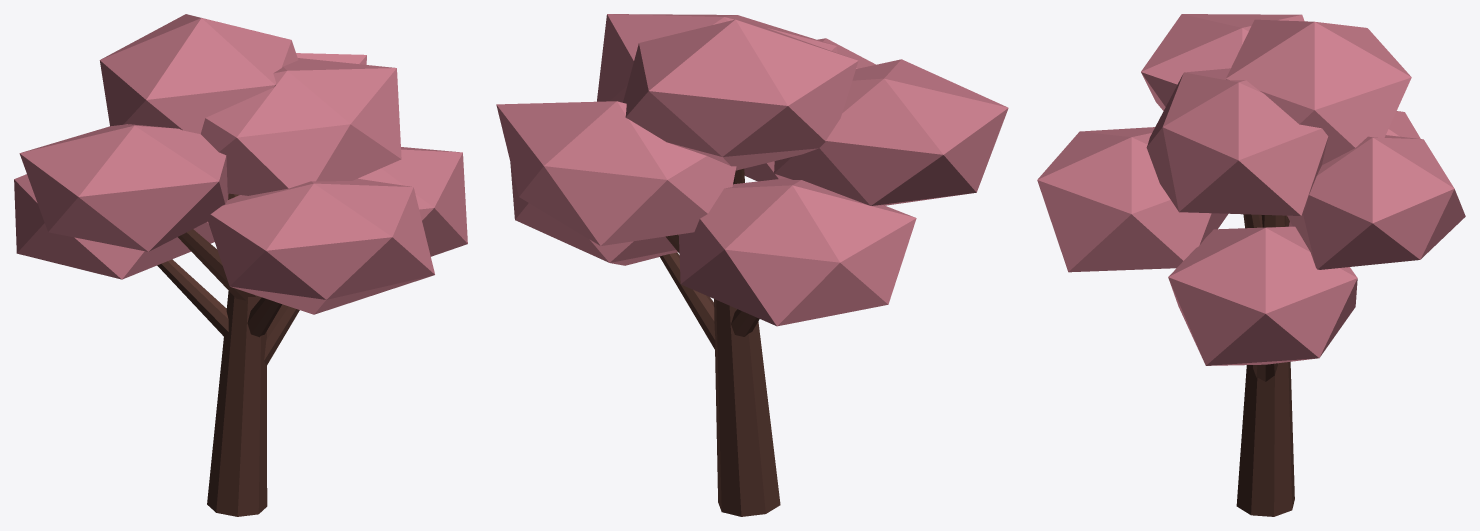
Rendered from sakura.glb.
The picture shows the model from 3 angles, left to right: view 1: azimuth 30°, elevation 25°; view 2: azimuth 150°, elevation 25°; view 3: azimuth 270°, elevation 25°; orthographic projection. The views are drawn at different scales.
Parts seen in each view (by area): view 1: sakura; view 2: sakura; view 3: sakura.
Boxes of the visible parts, x1,y1,x2,y2 form: sakura: [14, 14, 467, 516]; sakura: [496, 14, 1008, 516]; sakura: [1037, 14, 1465, 516].
Size of the model in its own units: 5.89 by 6.26 by 5.09.
